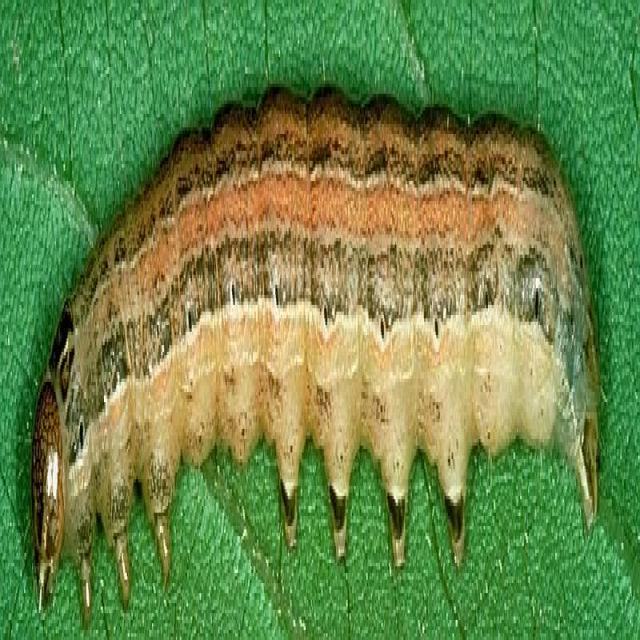Cutworm: (17, 77, 605, 634)
